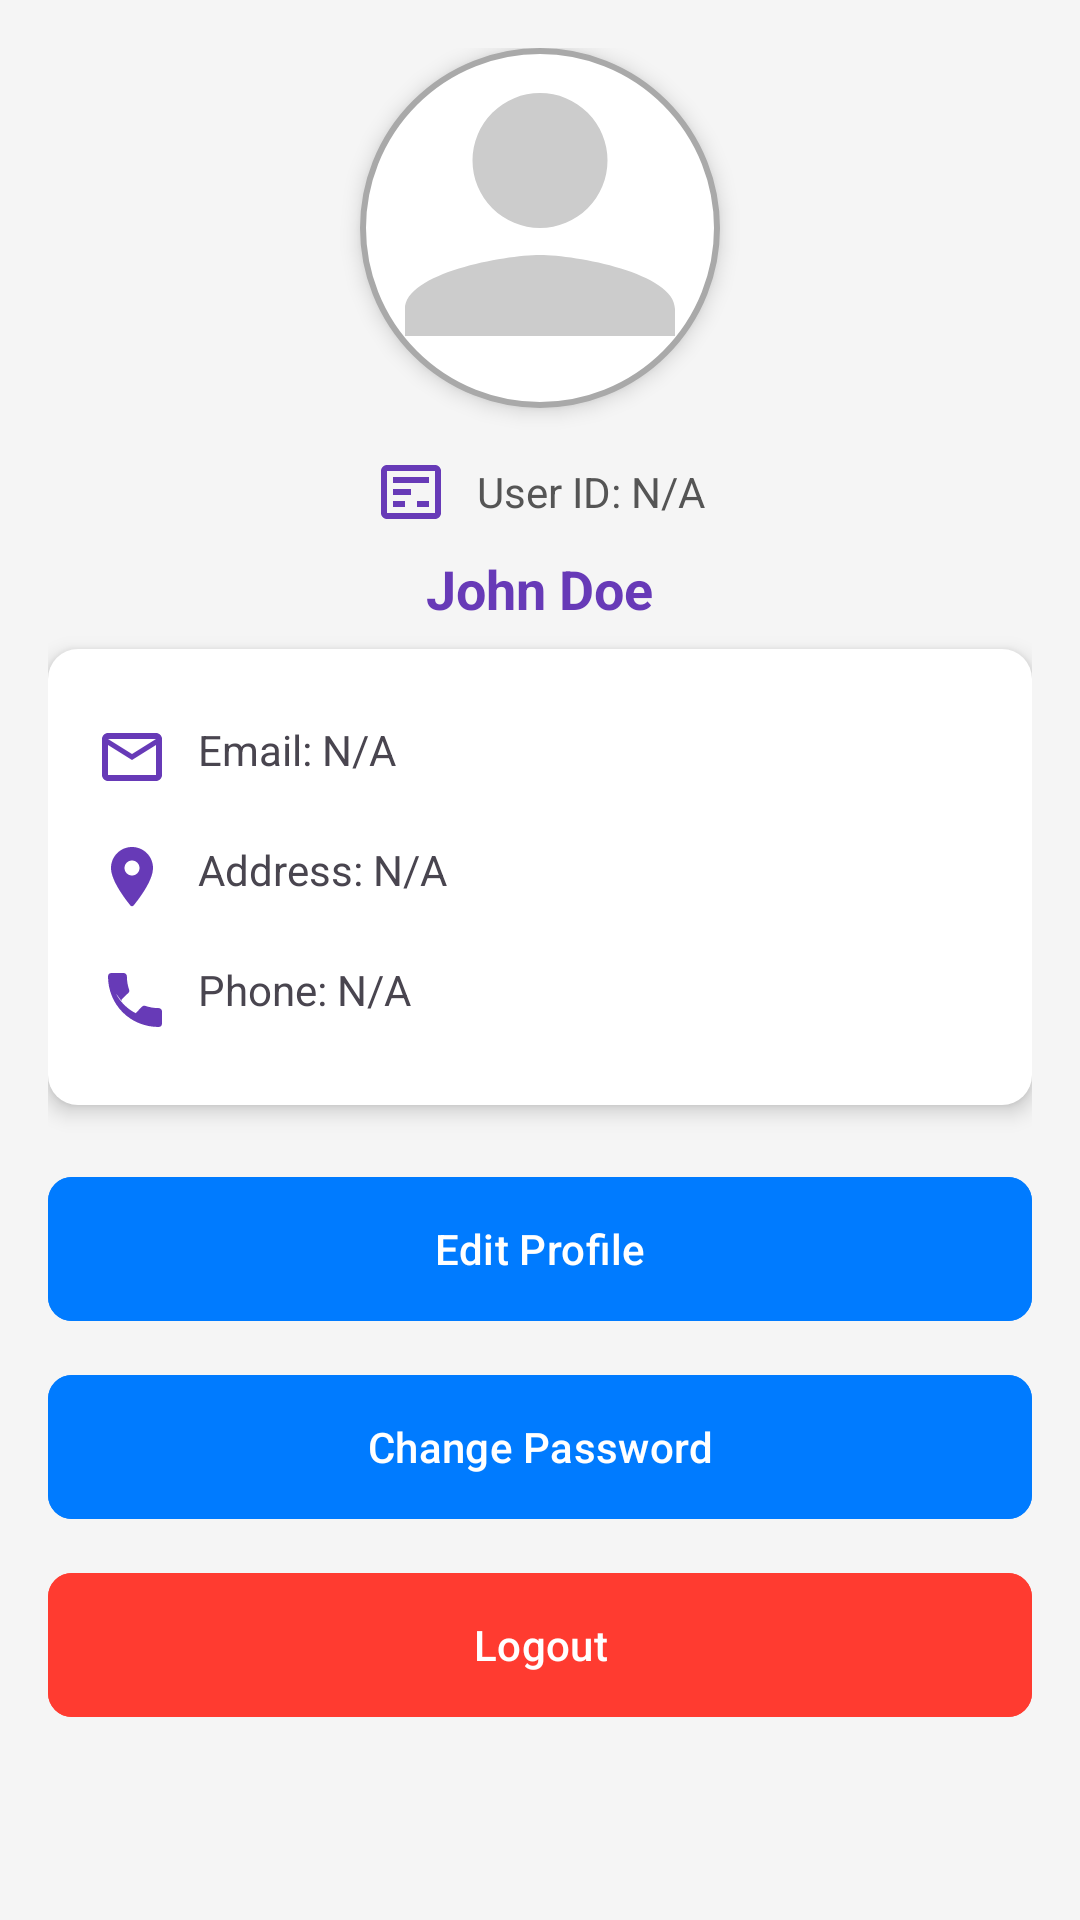

Icon click points for this 1080 × 1920 phone screenshot, format [x,y]:
location: [132,876]
